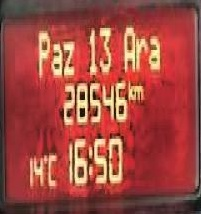0: (107, 130, 122, 180)
1: (86, 19, 96, 72), (67, 133, 72, 186), (27, 153, 32, 189)
2: (62, 80, 73, 125)
3: (97, 19, 111, 72)
4: (101, 77, 113, 119), (32, 150, 42, 186)
5: (92, 133, 106, 183), (87, 77, 100, 122)
6: (72, 130, 86, 186), (113, 77, 126, 119)
8: (74, 77, 87, 122)
X: (36, 25, 48, 78), (122, 22, 133, 69), (134, 30, 147, 69), (62, 36, 75, 75), (147, 33, 160, 69), (46, 147, 57, 186), (50, 39, 61, 75), (132, 80, 142, 100), (87, 141, 92, 177), (127, 75, 132, 100)
